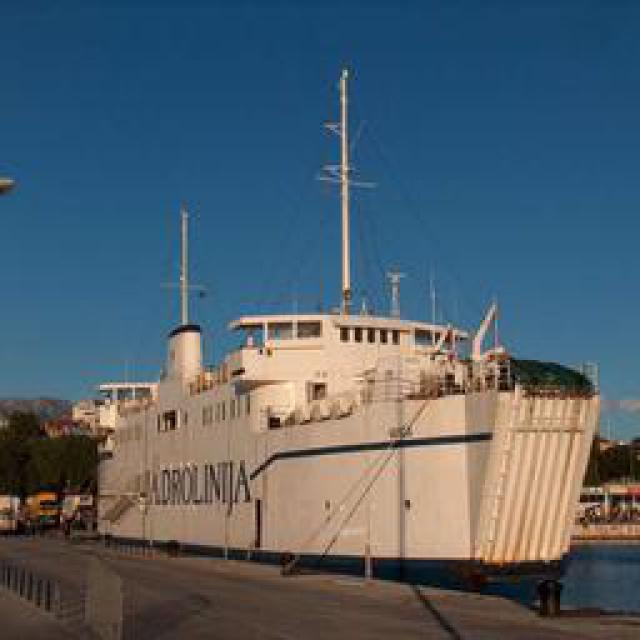Ship: (55, 77, 615, 575)
